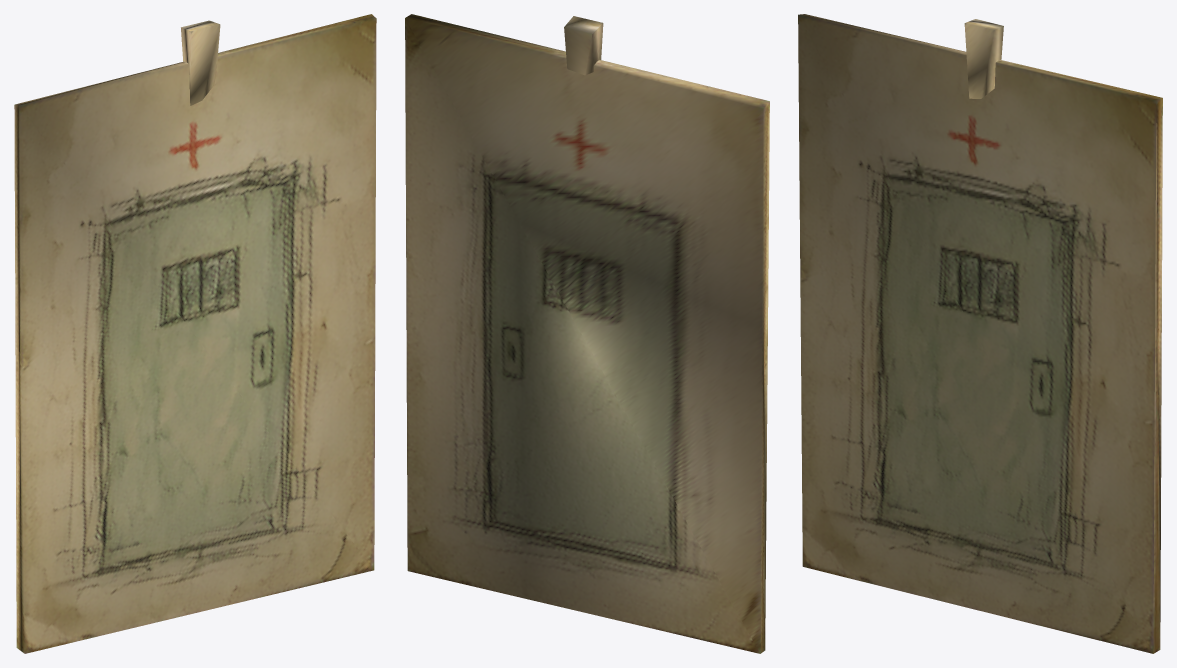
The model's file is picture4.fbx.
3 renders of one model, left to right at view 1: azimuth 30°, elevation 25°; view 2: azimuth 150°, elevation 25°; view 3: azimuth 330°, elevation 25°, orthographic.
Parts seen in each view (by area): view 1: picture4; view 2: picture4; view 3: picture4.
Boxes of the visible parts, x1,y1,x2,y2 form: picture4: (14, 14, 376, 653); picture4: (405, 14, 769, 653); picture4: (798, 14, 1162, 653).
Size of the model in its own units: 165 by 258 by 8.56.
Materials: 1 (1 with a texture image).
